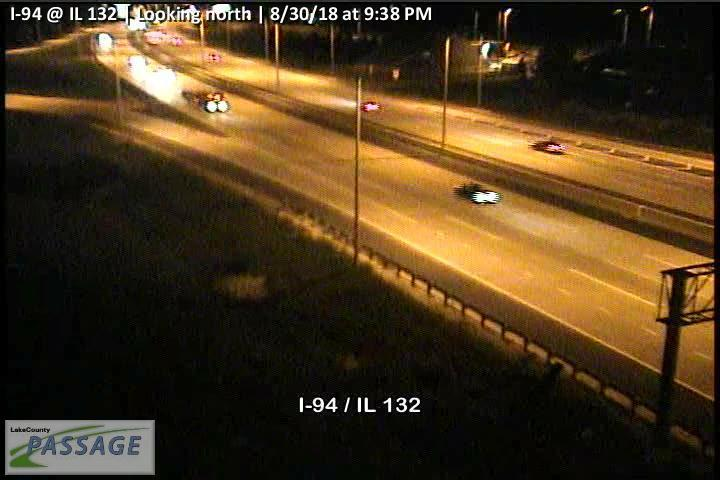Sedan: (454, 184, 502, 205), (530, 140, 565, 152)
